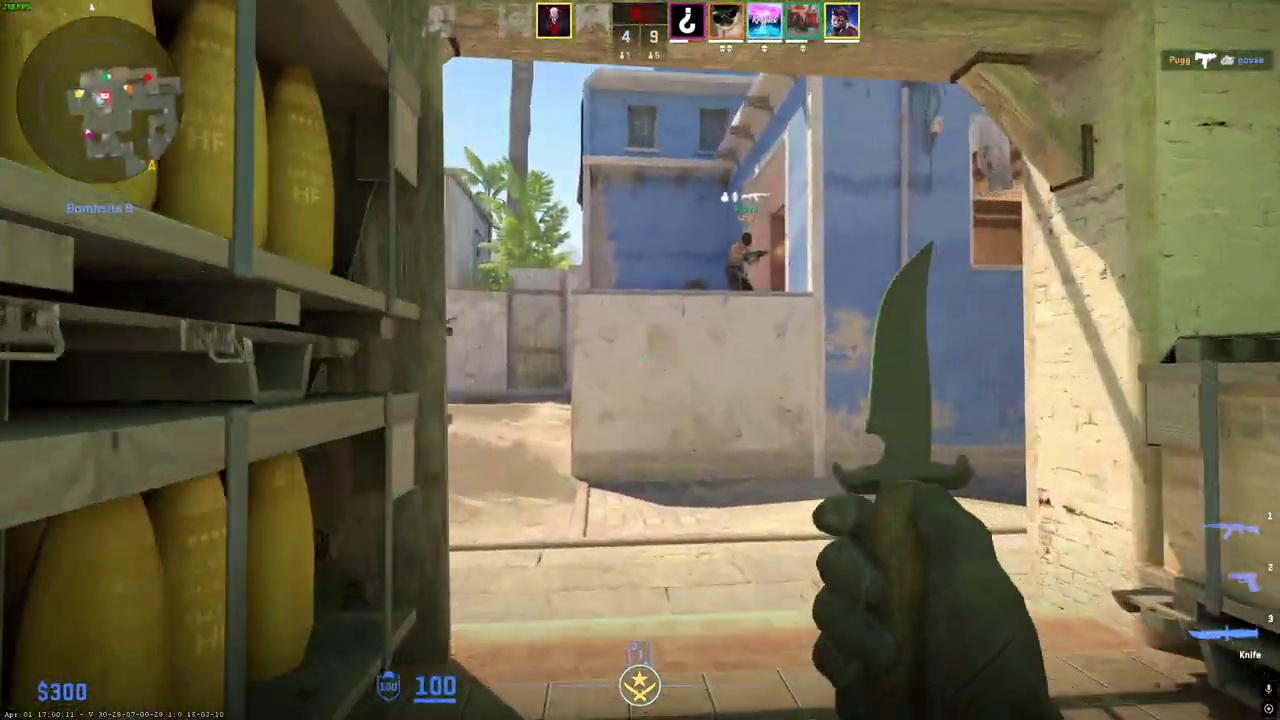Terrorist: (724, 232, 759, 292)
